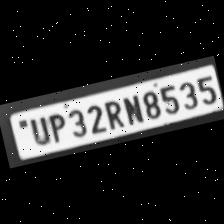2: (82, 101, 108, 135)
3: (63, 106, 88, 140), (175, 76, 199, 110)
5: (192, 72, 220, 108), (156, 82, 182, 116)
8: (137, 86, 163, 122)
N: (120, 92, 144, 127)
P: (43, 110, 69, 144)
R: (100, 96, 126, 132)
U: (26, 114, 52, 148)
